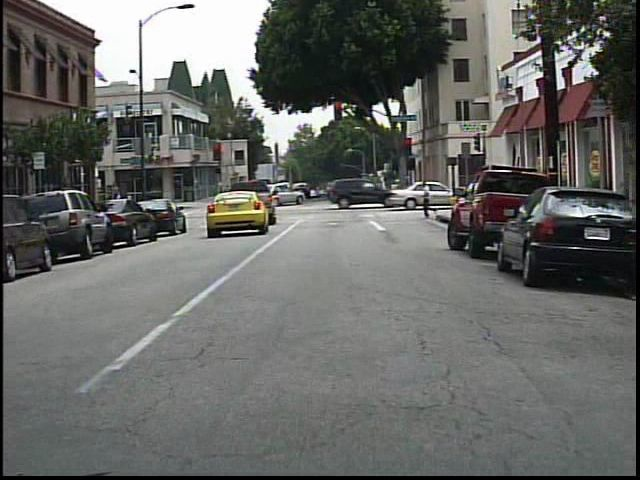person: (418, 178, 442, 222)
